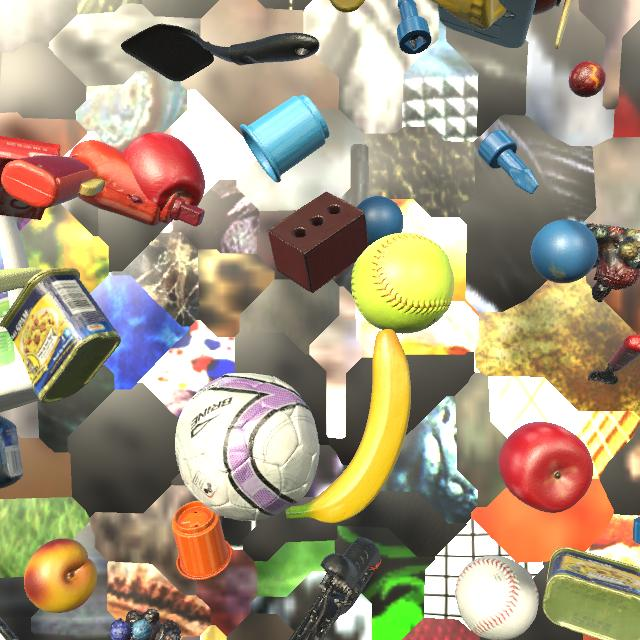ycb_006_mustard_bottle: (431, 0, 506, 30)
ycb_009_gelatin_box: (0, 136, 60, 220)
ycb_010_potted_meat_can: (0, 267, 121, 403), (542, 547, 640, 640)
ycb_011_banana: (286, 329, 411, 523)
ycb_013_apple: (498, 422, 593, 513), (123, 132, 205, 220)
ycb_015_peach: (24, 538, 97, 613)
